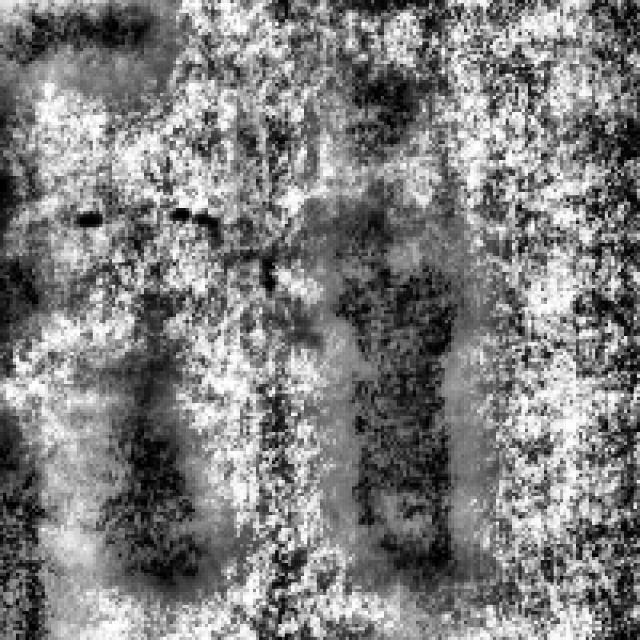Scratches: (310, 192, 477, 576), (76, 348, 215, 596), (0, 400, 64, 637), (0, 0, 163, 86)
